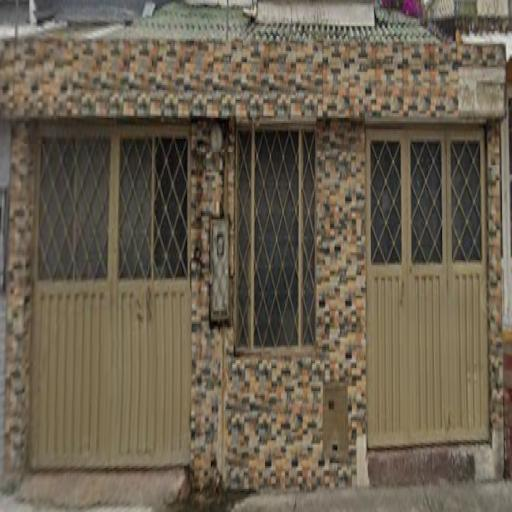fachada: (2, 6, 510, 503)
